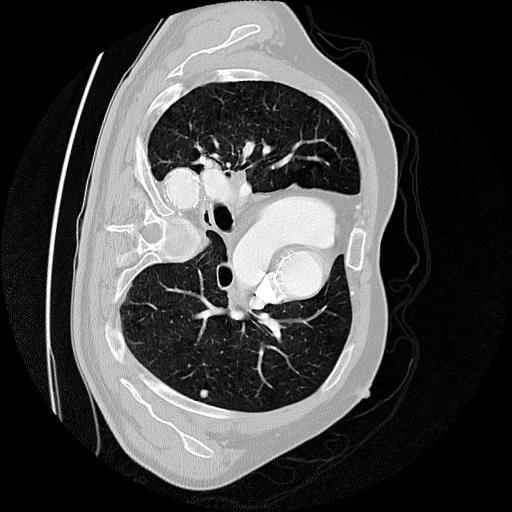nodule: (196, 387, 212, 403)
